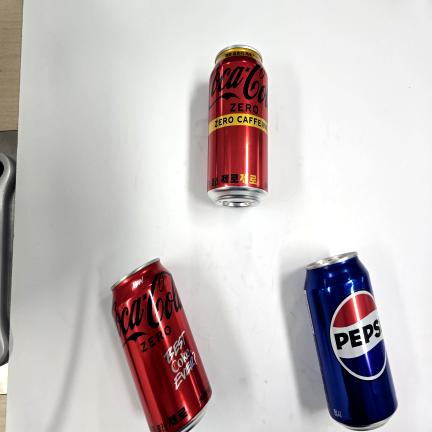can_coke_decaf: (207, 44, 268, 207)
can_coke_zero: (110, 258, 212, 432)
can_pepsi: (304, 253, 398, 432)
